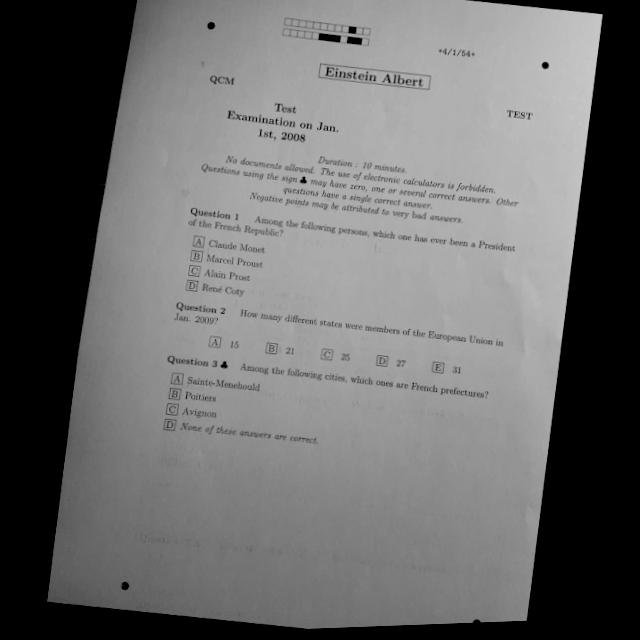Markers: (541, 60, 550, 70), (121, 581, 130, 591), (207, 21, 216, 30), (471, 619, 481, 623)
